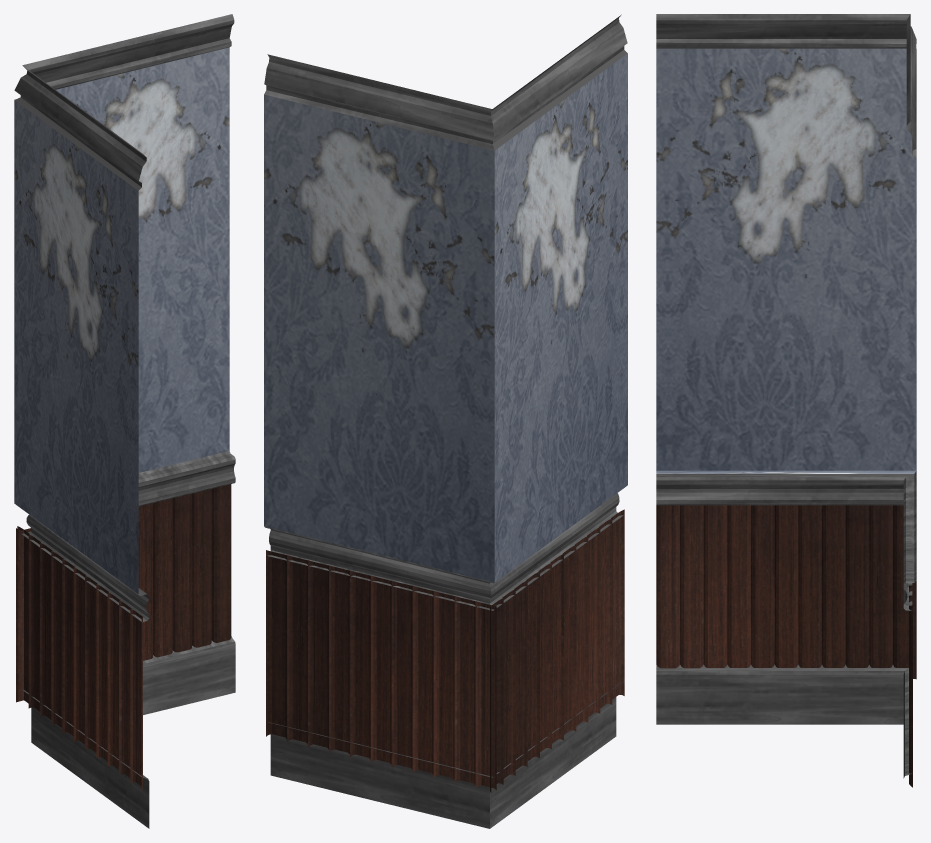
The model's file is Mod_Wall_Corner_B_1x3_High.fbx.
3 views of the same model, side by side, from view 1: azimuth 30°, elevation 25°; view 2: azimuth 150°, elevation 25°; view 3: azimuth 270°, elevation 25° (orthographic). The views are drawn at different scales.
Visible parts, largest first — view 1: Mod_Wall_Corner_B_1x3_High; view 2: Mod_Wall_Corner_B_1x3_High; view 3: Mod_Wall_Corner_B_1x3_High.
Part boxes in pixels (x1,y1,x2,y2): Mod_Wall_Corner_B_1x3_High: [14, 14, 235, 828]; Mod_Wall_Corner_B_1x3_High: [264, 14, 627, 828]; Mod_Wall_Corner_B_1x3_High: [656, 14, 916, 787].
Size of the model in its own units: 100 by 300 by 100.
Materials: 1 (1 with a texture image).
